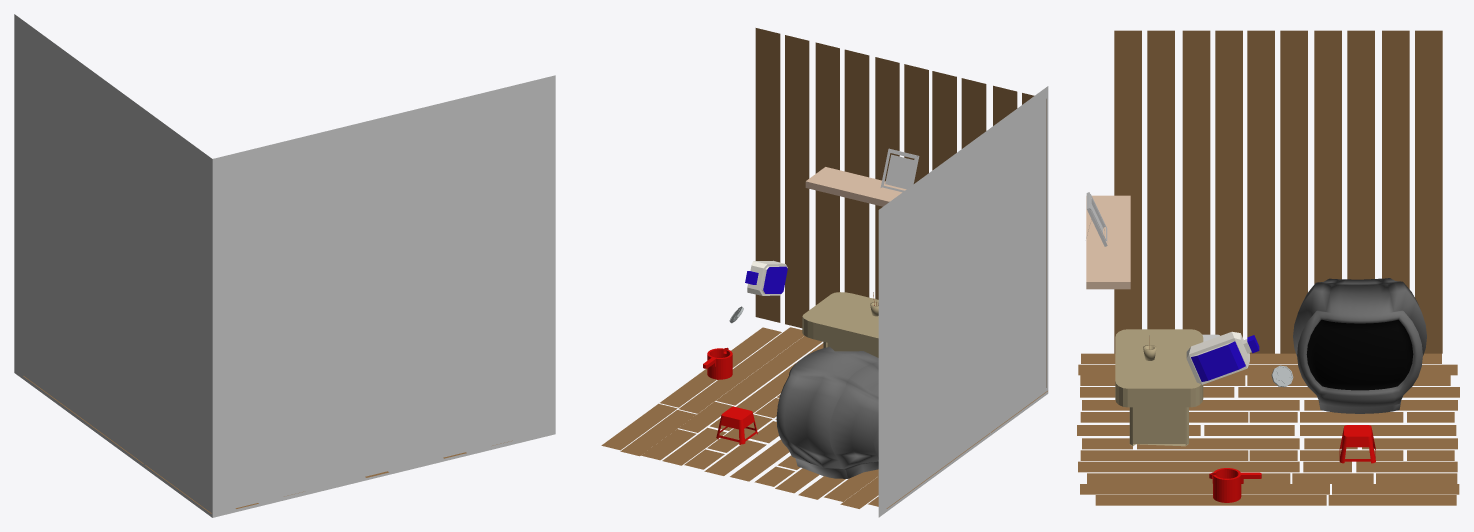
The model's file is coin.glb.
3 views of the same model, side by side, from view 1: azimuth 30°, elevation 25°; view 2: azimuth 150°, elevation 25°; view 3: azimuth 270°, elevation 25° (orthographic). The views are drawn at different scales.
Parts seen in each view (by area): view 1: Cube.001; view 2: Cube.001, Plane.008, Plane.015, Plane.009, Plane, Cube, Cube.005, Plane.002, Plane.001, Circle.002; view 3: Plane.010, Plane.015, Plane.009, Plane, Cube, Cube.005, Circle.002, Plane.001, Plane.002.
Part boxes in pixels (x1=…): Cube.001: x1=14, y1=14, x2=555, y2=517; Cube.001: x1=878, y1=86, x2=1048, y2=517; Plane.008: x1=755, y1=28, x2=1046, y2=387; Plane.015: x1=601, y1=327, x2=1047, y2=508; Plane.009: x1=776, y1=346, x2=878, y2=478; Plane: x1=802, y1=292, x2=878, y2=357; Cube: x1=805, y1=167, x2=906, y2=206; Cube.005: x1=745, y1=260, x2=787, y2=295; Plane.002: x1=880, y1=148, x2=919, y2=192; Plane.001: x1=716, y1=406, x2=757, y2=444; Circle.002: x1=703, y1=347, x2=732, y2=379; Plane.010: x1=1114, y1=30, x2=1442, y2=353; Plane.015: x1=1077, y1=353, x2=1459, y2=505; Plane.009: x1=1293, y1=278, x2=1426, y2=413; Plane: x1=1115, y1=329, x2=1203, y2=446; Cube: x1=1086, y1=195, x2=1130, y2=289; Cube.005: x1=1186, y1=331, x2=1259, y2=384; Circle.002: x1=1209, y1=468, x2=1261, y2=502; Plane.001: x1=1339, y1=425, x2=1375, y2=463; Plane.002: x1=1086, y1=192, x2=1107, y2=246.
Bounding box in the file's own units: 26.87 × 26.81 × 27.05.
